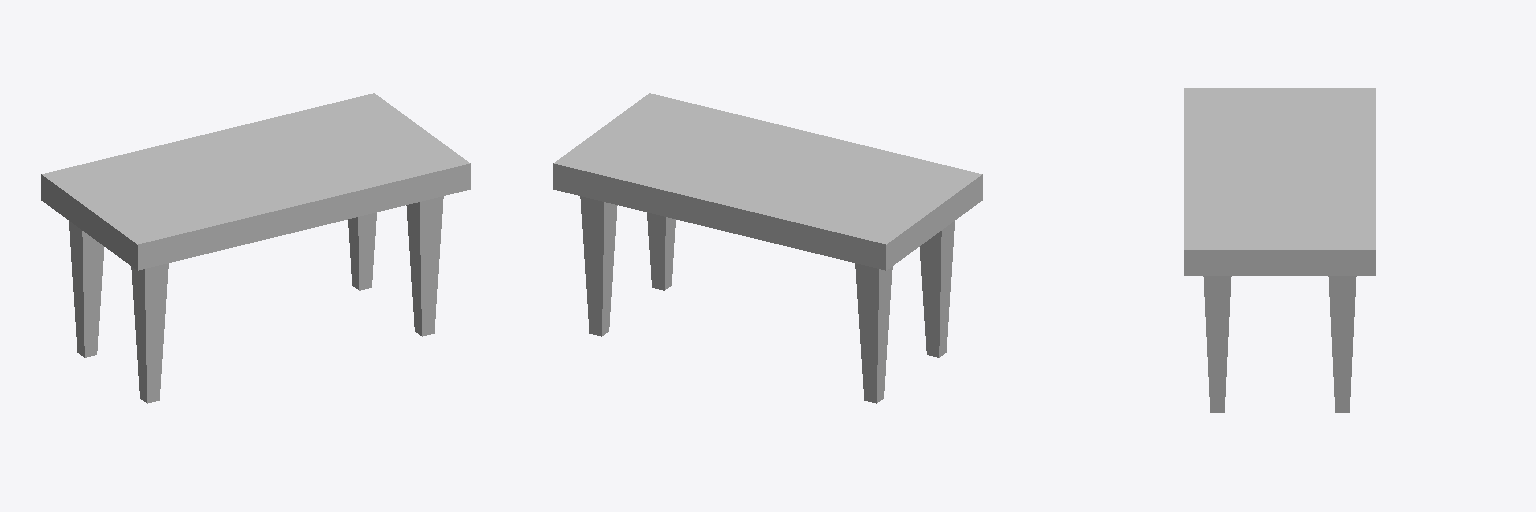
File: Props_Table_Geo.obj
The picture shows the model from 3 angles: view 1: azimuth 30°, elevation 25°; view 2: azimuth 150°, elevation 25°; view 3: azimuth 270°, elevation 25°; orthographic projection.
Parts seen in each view (by area): view 1: PropZoo:pCube58; view 2: PropZoo:pCube58; view 3: PropZoo:pCube58.
Part boxes in pixels (x1,y1,x2,y2): PropZoo:pCube58: (41, 93, 470, 403); PropZoo:pCube58: (553, 93, 982, 403); PropZoo:pCube58: (1184, 88, 1375, 412).
Bounding box in the file's own units: 2 × 1 × 1.